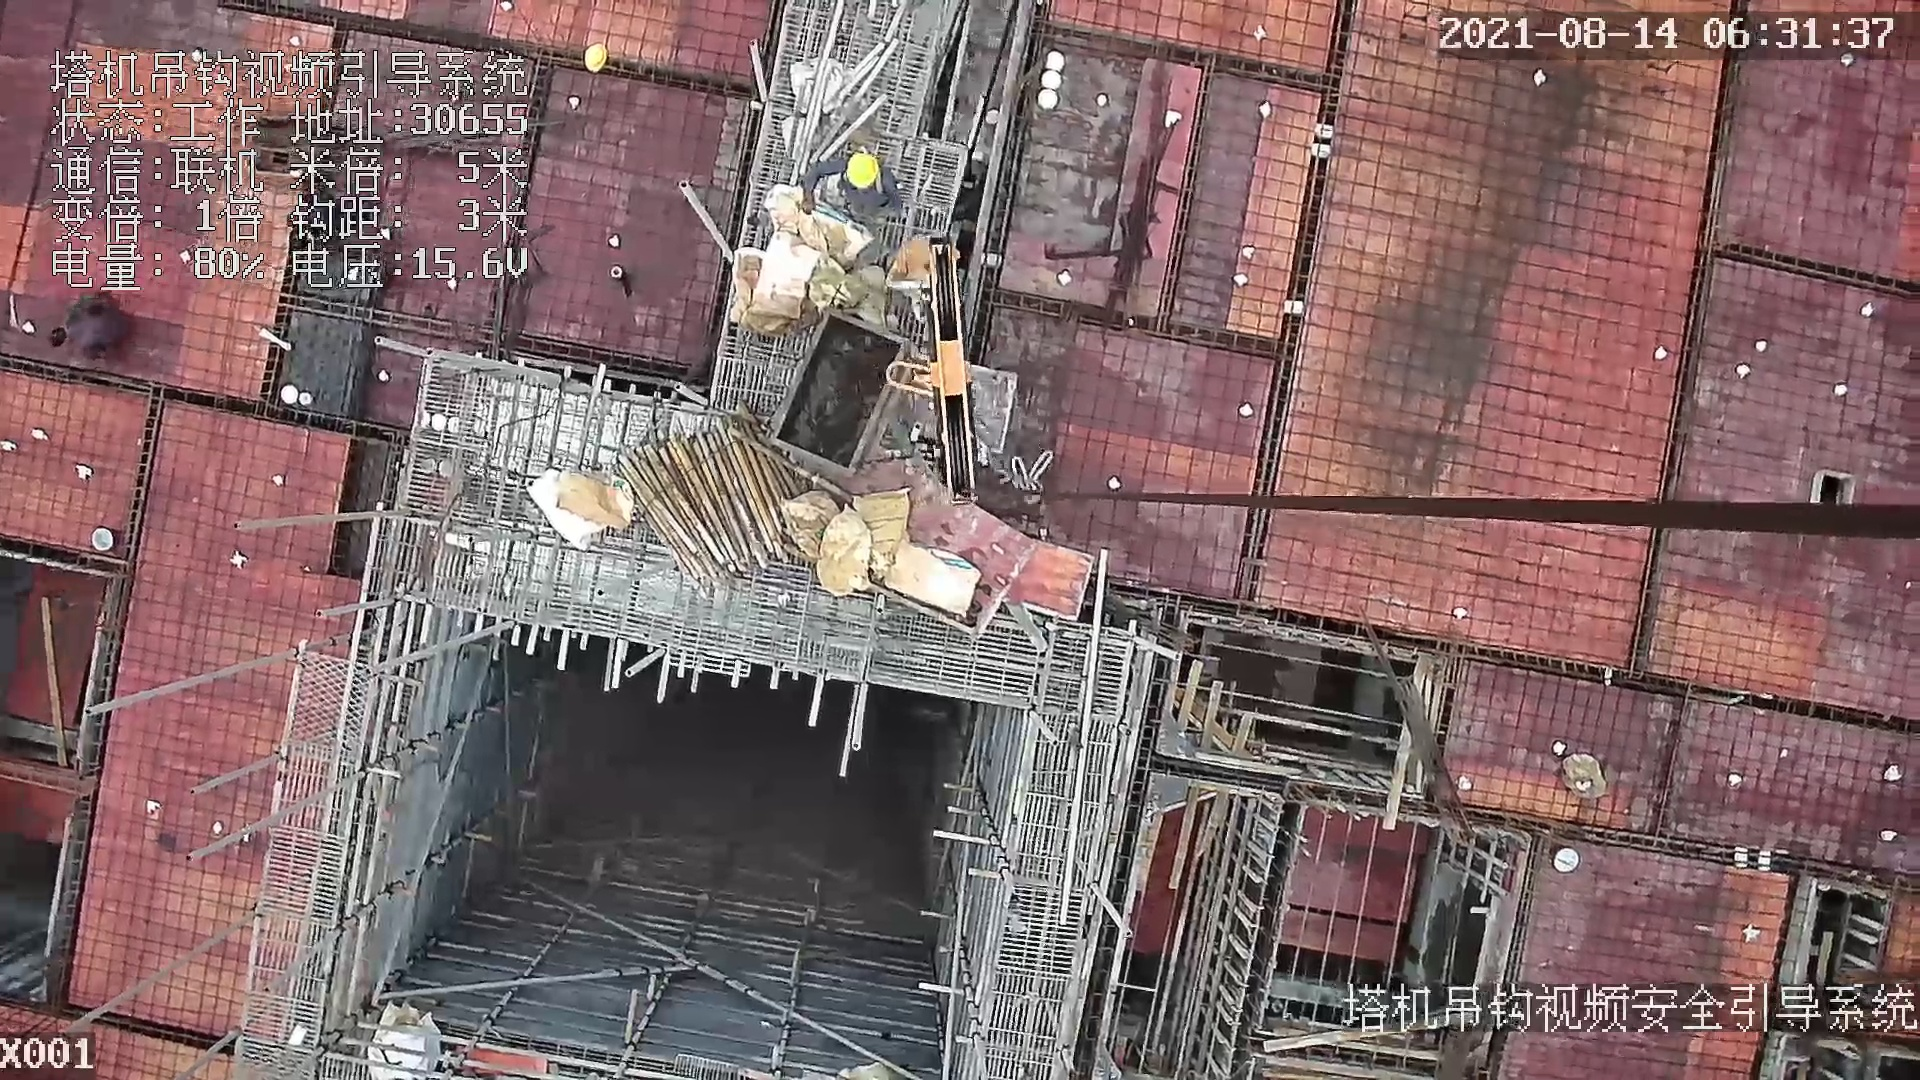helmet: (842, 156, 879, 191), (582, 45, 617, 74)
hook: (913, 237, 977, 509)
hopper: (779, 308, 914, 476)
person: (46, 287, 162, 372), (796, 153, 913, 230)
scaffold: (618, 417, 801, 587)
